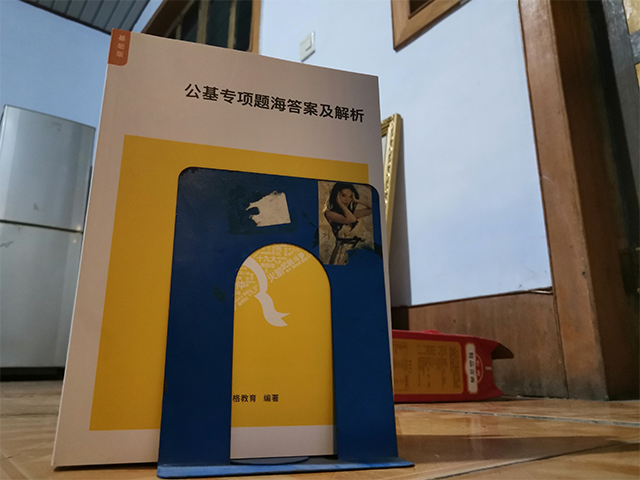book: (49, 26, 399, 471)
